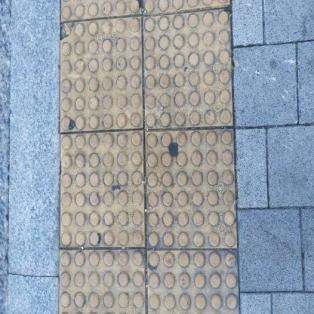Podoctatil: (54, 0, 244, 313)
